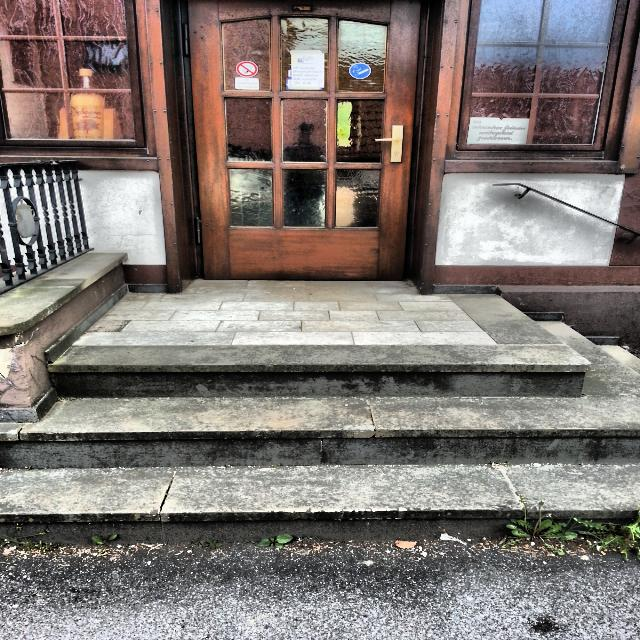escada: (2, 316, 640, 543)
